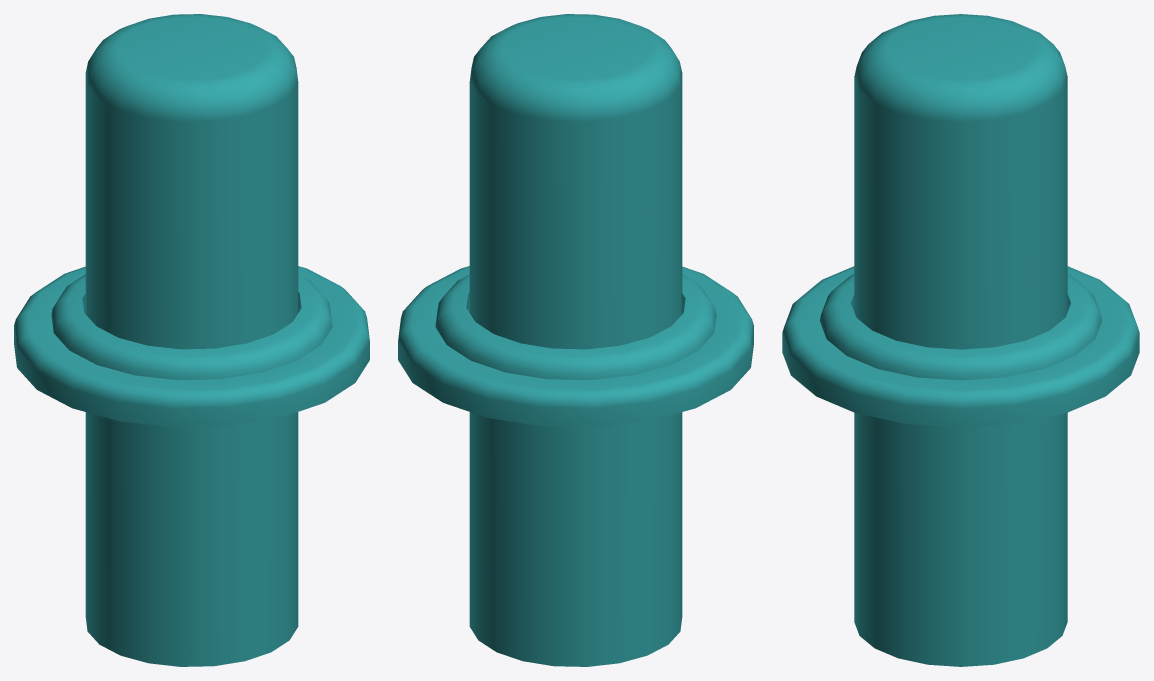
The model's file is Obstacle_Mole.fbx.
3 renders of one model, left to right at view 1: azimuth 30°, elevation 25°; view 2: azimuth 150°, elevation 25°; view 3: azimuth 270°, elevation 25°, orthographic.
Visible parts, largest first — view 1: Mole_A, Obstacle_Mole; view 2: Mole_A, Obstacle_Mole; view 3: Mole_A, Obstacle_Mole.
Boxes of the visible parts, bbox=[...] form: Mole_A: bbox=[85, 14, 298, 666]; Obstacle_Mole: bbox=[14, 266, 369, 427]; Mole_A: bbox=[469, 14, 682, 666]; Obstacle_Mole: bbox=[398, 266, 753, 427]; Mole_A: bbox=[854, 14, 1067, 666]; Obstacle_Mole: bbox=[782, 266, 1139, 427].
Size of the model in its own units: 39.53 by 69.91 by 39.53.
